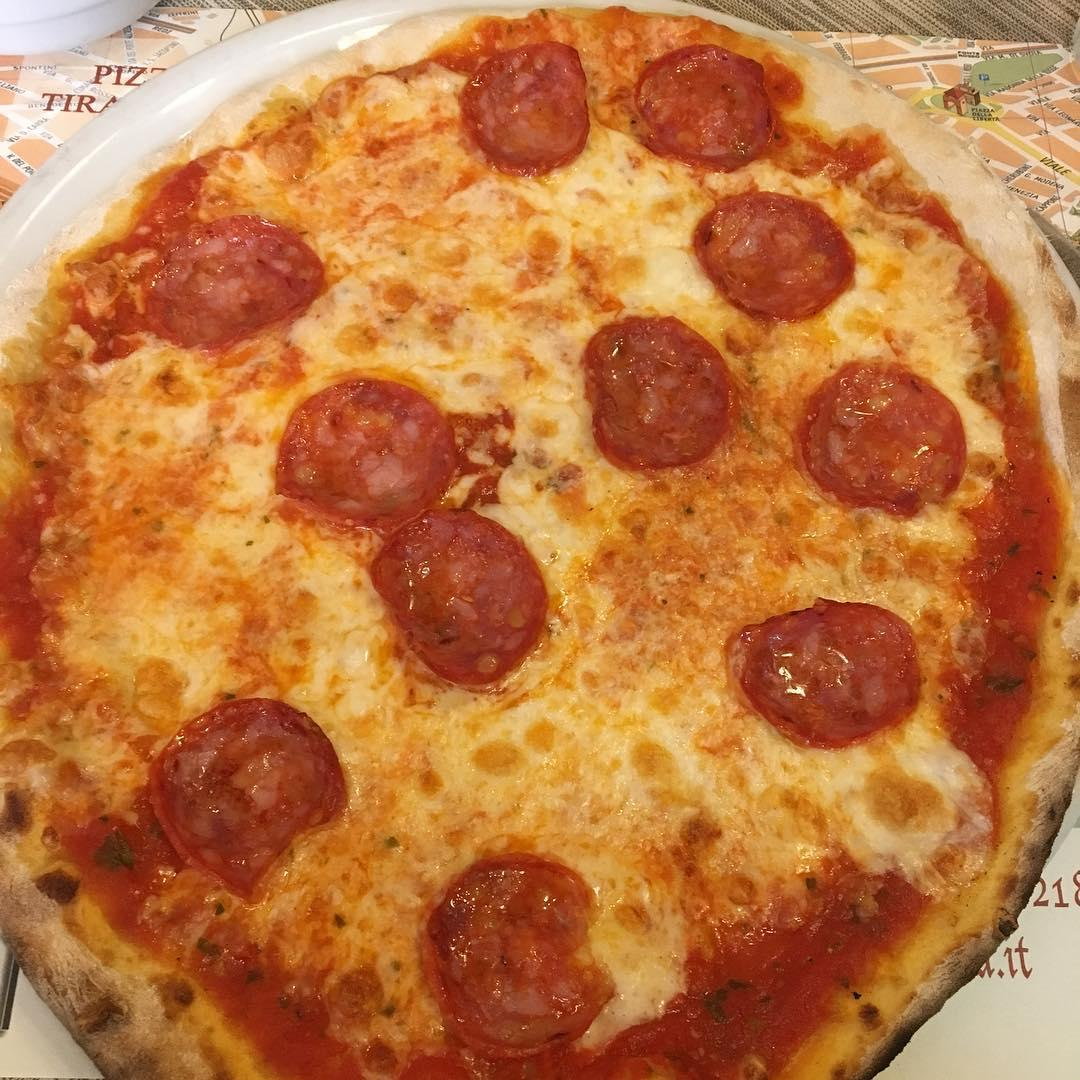Pepperoni: (135, 690, 358, 908), (353, 490, 567, 705), (712, 578, 937, 775), (415, 853, 627, 1060), (245, 352, 468, 548), (792, 348, 975, 527), (115, 203, 330, 355), (573, 305, 748, 478), (675, 183, 863, 332), (623, 37, 778, 175), (458, 37, 593, 188)
Pizza: (0, 0, 1080, 1080)
